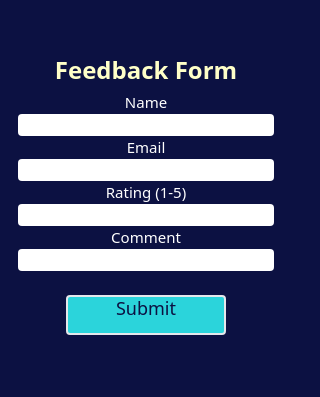
Test: Validation › should display an error message if comment field is inputted incorrectly
Type "6749" into the field with test id "comment" at point(146, 260), box [18, 248, 274, 271]
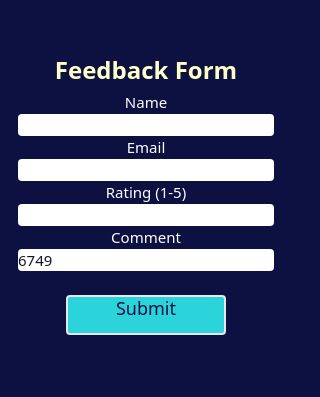
Submit the form from the button, box [66, 271, 226, 335]
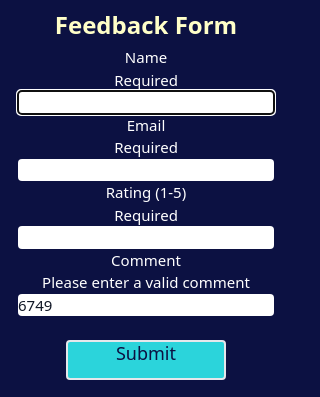
Now the text "Please enter a valid comment" is shown, box [42, 271, 250, 294]
